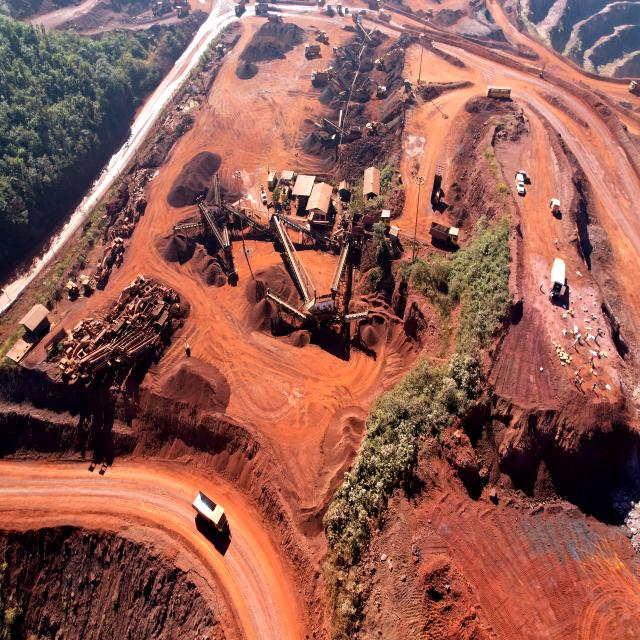Dumper truck: (194, 488, 226, 535), (429, 222, 458, 247), (363, 210, 391, 228), (433, 166, 443, 204), (378, 7, 392, 23), (311, 72, 328, 83), (305, 44, 321, 55), (254, 3, 268, 13), (629, 81, 640, 93), (234, 0, 245, 12), (159, 2, 172, 12), (176, 5, 188, 15), (367, 0, 381, 8), (268, 14, 282, 22), (352, 14, 362, 22), (336, 2, 342, 13)
Excavator: (95, 253, 115, 283), (362, 76, 386, 96), (375, 50, 397, 70), (367, 120, 390, 134)
car: (516, 174, 524, 194), (551, 198, 559, 214), (524, 171, 530, 183)
person: (574, 376, 579, 385), (592, 382, 596, 391), (574, 339, 578, 348), (584, 332, 588, 341), (594, 332, 598, 341), (540, 281, 544, 289), (579, 379, 583, 387), (555, 238, 558, 246), (410, 69, 412, 75)
